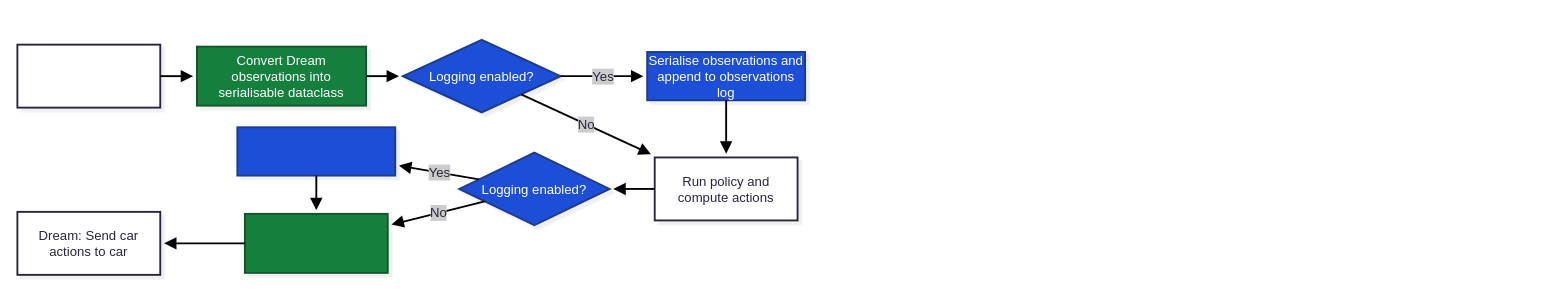
Some shapes in this 1556 by 295 pixel diagram are drawn without their labels. Here are the shapes that lost their labels. From the top down, the centre of each, then its label:
At (90,77): "Dream: Car begins step".
At (318,153): "Serialise actions and append to observations log".
At (317,244): "Deserialise actions data into readable car actions".
